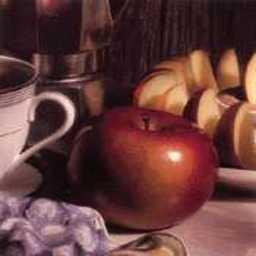apple: (76, 106, 217, 234)
